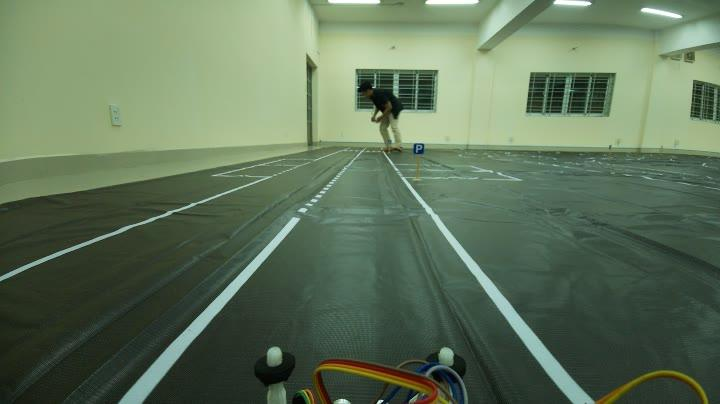parking: (409, 139, 427, 155)
